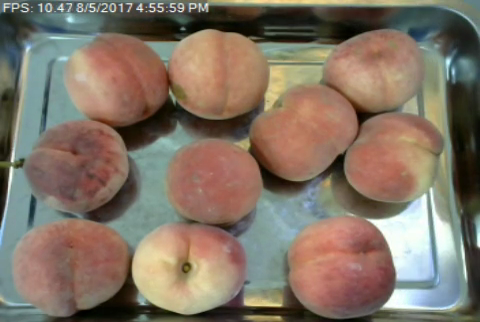Peach: (10, 220, 128, 317), (286, 215, 397, 318), (131, 221, 246, 316), (248, 82, 357, 182), (25, 119, 130, 214), (65, 32, 169, 126), (342, 111, 446, 203), (170, 30, 273, 120), (320, 28, 427, 113), (164, 138, 261, 225)
